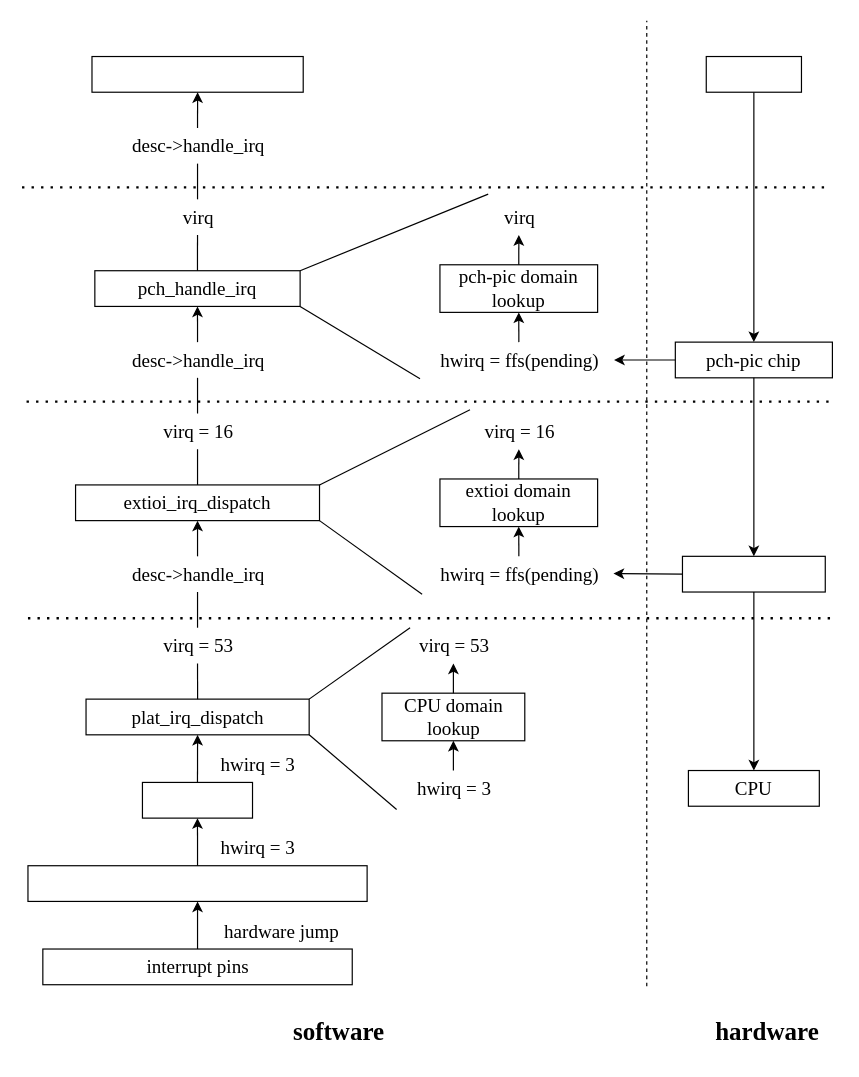
Image size: 859x1077. Some labels were removed from this diagram. Here are the shapes that lost their labels. From the top down, the box of each, then its label:
(91, 55, 303, 92): specified handler
(705, 55, 801, 92): device
(681, 555, 825, 592): extioi chip
(141, 781, 253, 818): do_vi
(27, 865, 367, 901): exception_handlers[EXCODE]
